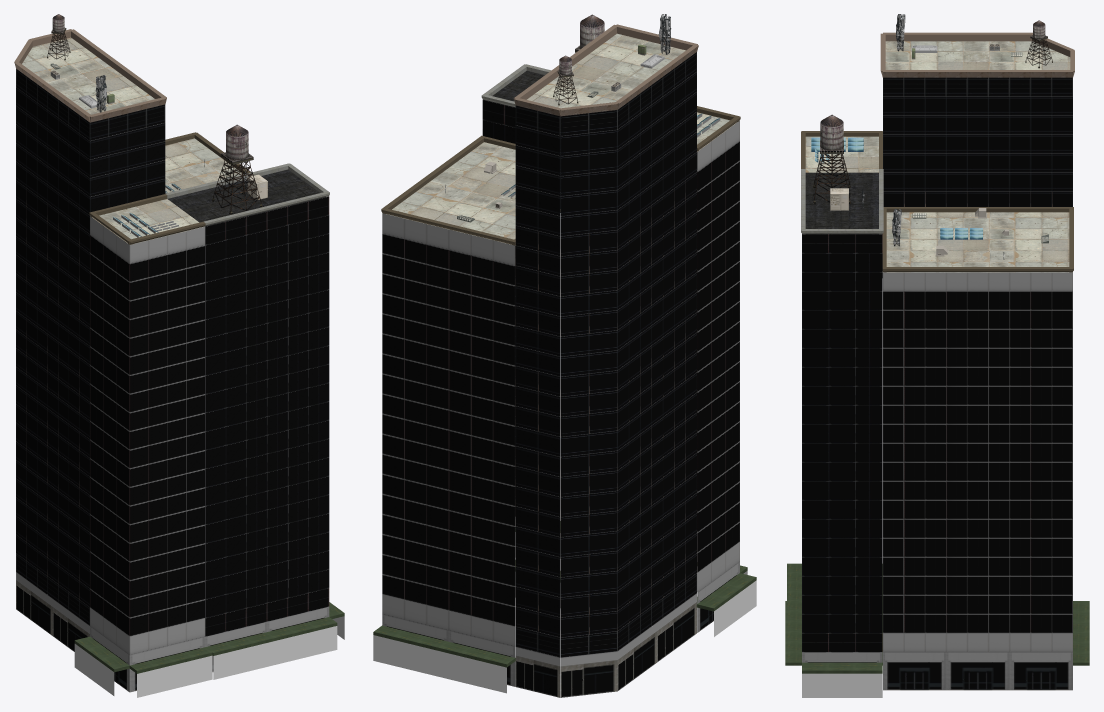
Rendered from building2.gltf.
3 renders of one model, left to right at view 1: azimuth 30°, elevation 25°; view 2: azimuth 150°, elevation 25°; view 3: azimuth 270°, elevation 25°, orthographic. The views are drawn at different scales.
Parts seen in each view (by area): view 1: Object_118.013, Object_99.239, Object_99.252; view 2: Object_118.013, Object_99.252, Object_99.239; view 3: Object_118.013, Object_99.239, Object_99.252.
Part boxes in pixels (<box>): Object_118.013: <box>14,29,344,697</box>; Object_99.239: <box>212,124,262,214</box>; Object_99.252: <box>47,14,70,60</box>; Object_118.013: <box>373,24,756,697</box>; Object_99.252: <box>553,55,578,105</box>; Object_99.239: <box>575,14,604,52</box>; Object_118.013: <box>785,32,1089,697</box>; Object_99.239: <box>813,114,850,203</box>; Object_99.252: <box>1025,20,1052,68</box>.
Size of the model in its own units: 38.81 by 93.66 by 43.52.
24 materials, 16 textured.
